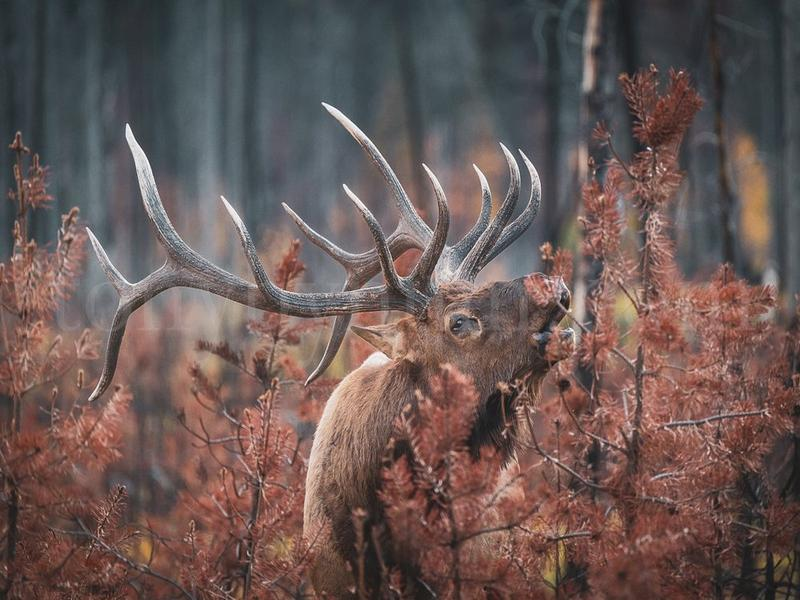elk: (139, 168, 580, 593)
